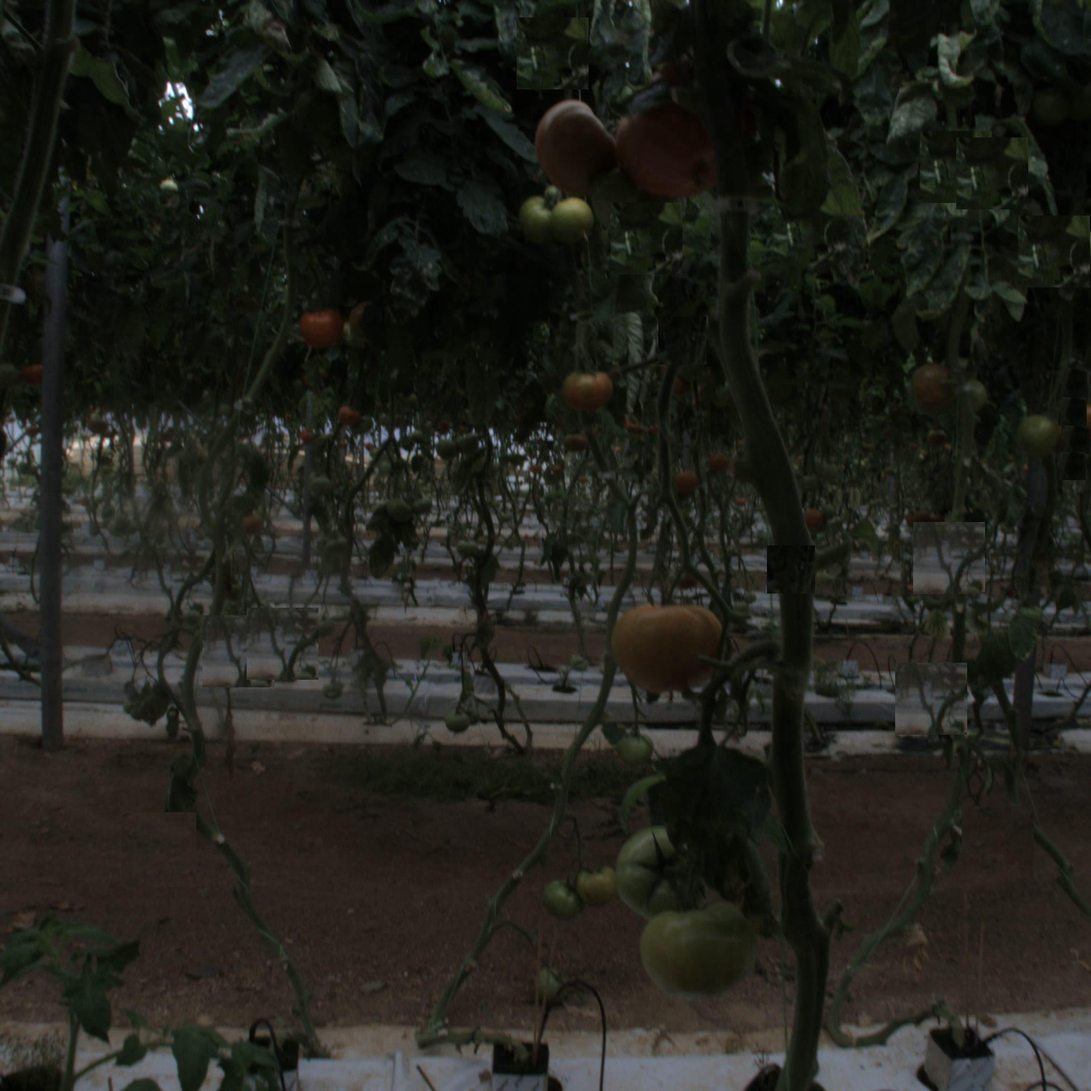fully-ripe: (621, 101, 722, 202), (297, 305, 341, 350)
semi-ripe: (615, 592, 715, 693), (533, 100, 625, 192), (904, 361, 961, 417), (562, 364, 610, 412)
unripe: (640, 890, 753, 1003), (614, 826, 706, 919), (1014, 412, 1063, 461), (547, 197, 595, 245), (574, 866, 620, 912), (539, 882, 582, 924), (520, 199, 559, 238)
